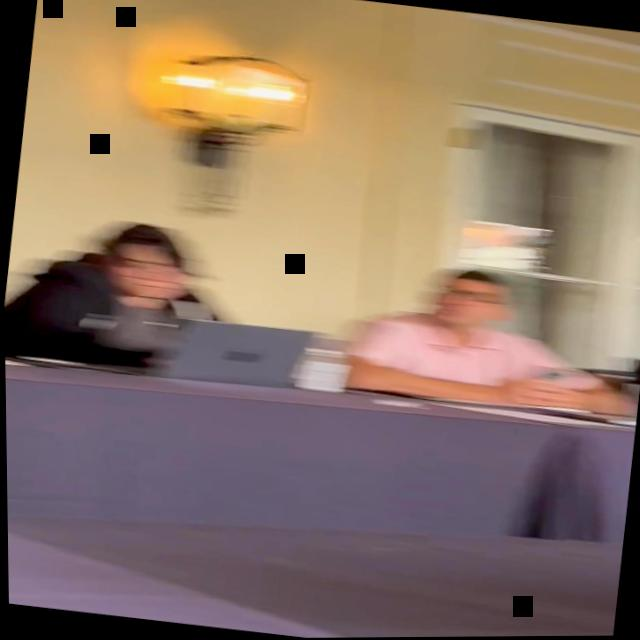NO-Mask: (104, 238, 183, 307), (430, 275, 501, 332)
